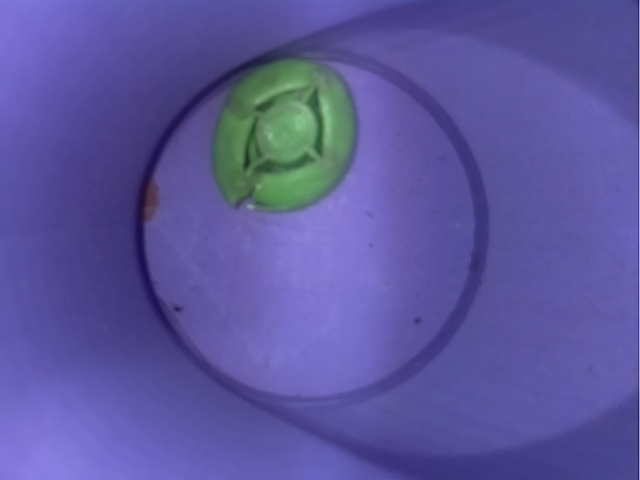bouchon: (198, 53, 378, 222)
